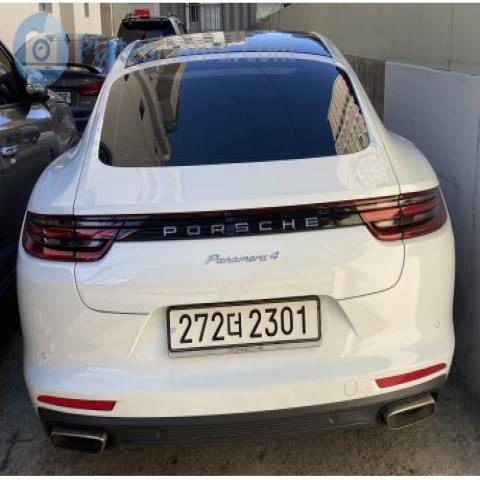LP: (152, 290, 332, 354)
